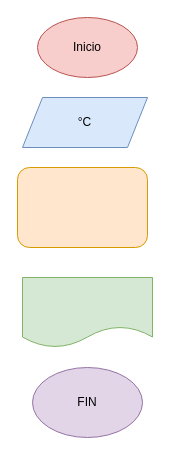
This 170x455 diagram has some shape labels left out. The shapes that lost their labels are listed below. From the top down, each one's box as (x1, y1, x2, y2) in pixels, then its label:
(16, 166, 148, 248): °F = (°Cx9/5) + 32 °K = °C+273.15
(22, 276, 152, 348): °F °K
